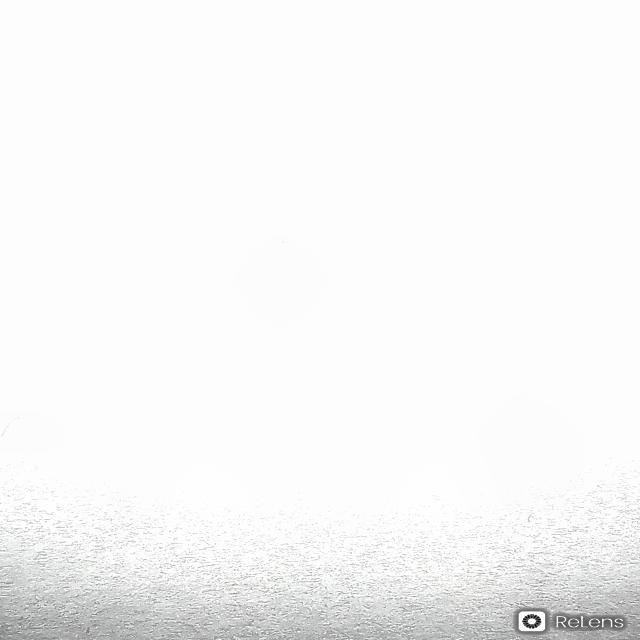Empty: (0, 0, 640, 590)
